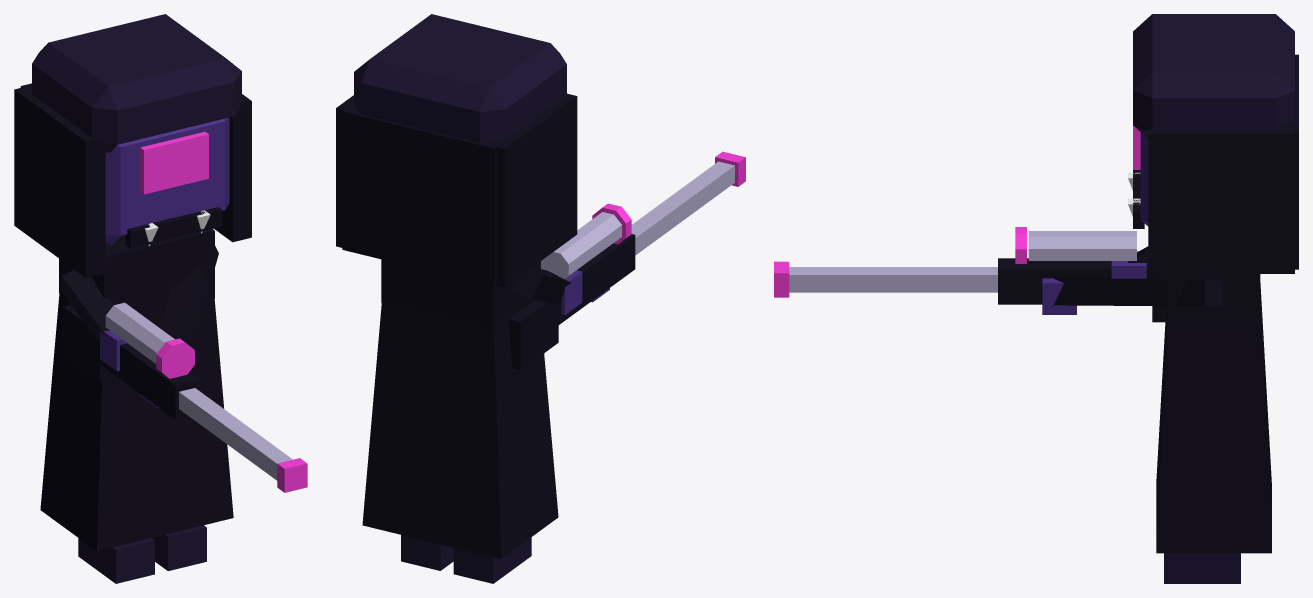
Rendered from sniper_enemy_r16.glb.
The picture shows the model from 3 angles, left to right: view 1: azimuth 30°, elevation 25°; view 2: azimuth 150°, elevation 25°; view 3: azimuth 270°, elevation 25°; orthographic projection. The views are drawn at different scales.
Visible parts, largest first — view 1: sniper_enemy_r16_mesh; view 2: sniper_enemy_r16_mesh; view 3: sniper_enemy_r16_mesh.
Part boxes in pixels (bbox=[...]): sniper_enemy_r16_mesh: bbox=[14, 14, 307, 583]; sniper_enemy_r16_mesh: bbox=[336, 14, 745, 583]; sniper_enemy_r16_mesh: bbox=[774, 14, 1298, 583].
Bounding box in the file's own units: 0.5858 × 1.7 × 1.56.
Materials: 1 (1 with a texture image).
